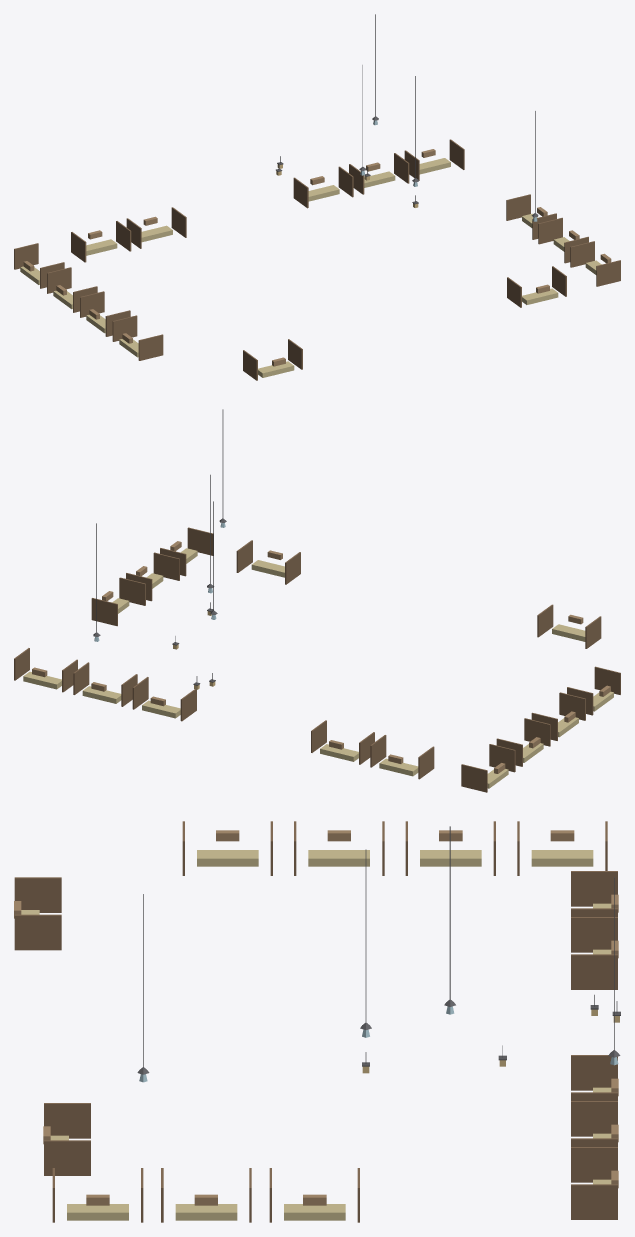
The model's file is interior_dragon01.glb.
3 views of the same model, one above another, from view 1: azimuth 30°, elevation 25°; view 2: azimuth 150°, elevation 25°; view 3: azimuth 270°, elevation 25° (orthographic). The views are drawn at different scales.
Visible parts, largest first — view 1: Interior_DRAGON01_mesh; view 2: Interior_DRAGON01_mesh; view 3: Interior_DRAGON01_mesh.
Boxes of the visible parts, bbox=[...] form: Interior_DRAGON01_mesh: bbox=[14, 14, 620, 380]; Interior_DRAGON01_mesh: bbox=[14, 409, 620, 792]; Interior_DRAGON01_mesh: bbox=[14, 821, 620, 1222].
Bounding box in the file's own units: 29.59 × 10.5 × 20.67.
